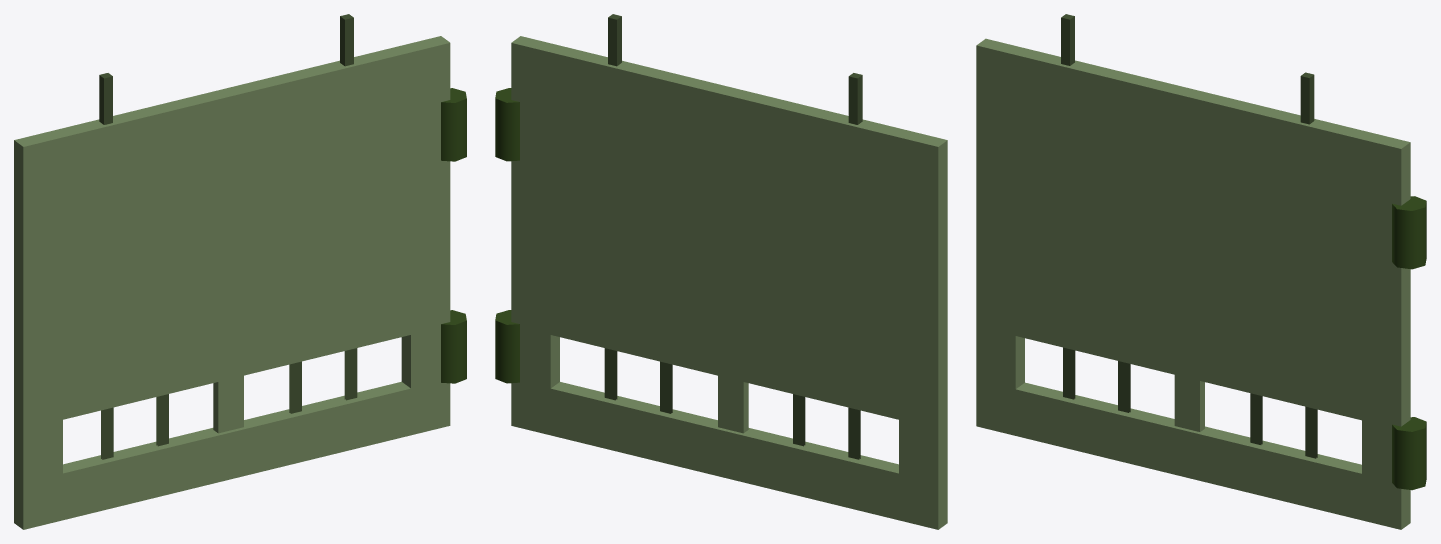
The model's file is gate1.fbx.
3 views of the same model, side by side, from view 1: azimuth 30°, elevation 25°; view 2: azimuth 150°, elevation 25°; view 3: azimuth 330°, elevation 25° (orthographic).
Parts seen in each view (by area): view 1: gate1; view 2: gate1; view 3: gate1.
Part boxes in pixels (x1,y1,x2,y2): gate1: [14, 14, 466, 529]; gate1: [495, 14, 947, 529]; gate1: [976, 14, 1426, 529].
Bounding box in the file's own units: 366 × 336 × 25.43.
